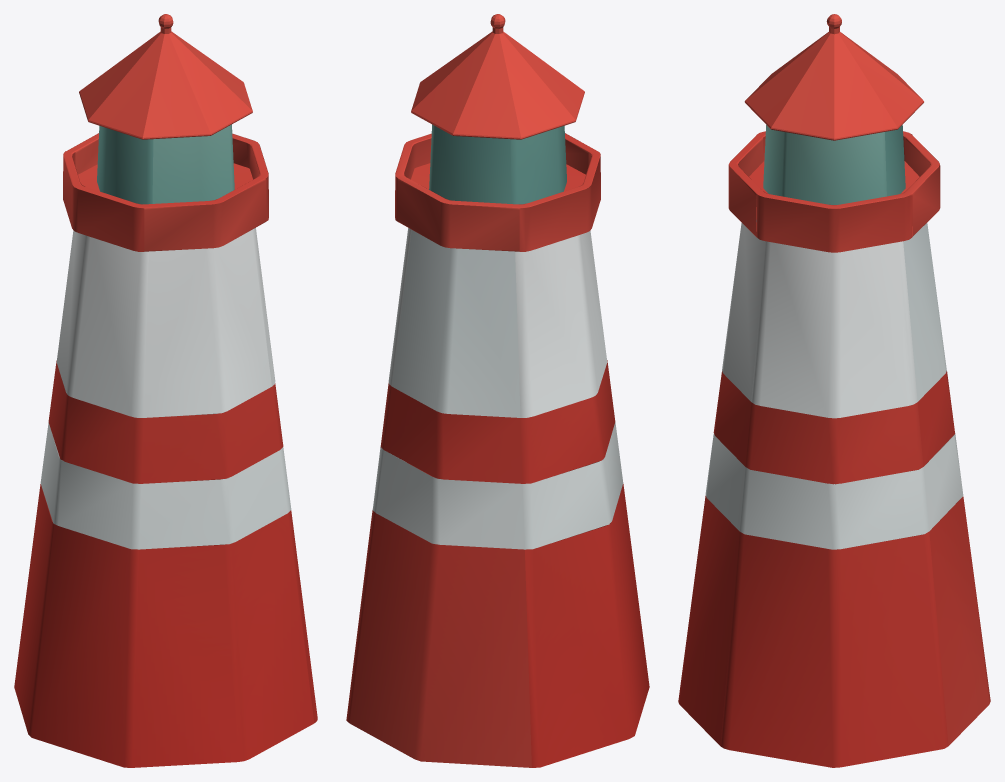
The model's file is lighthouse.glb.
3 views of the same model, side by side, from view 1: azimuth 30°, elevation 25°; view 2: azimuth 150°, elevation 25°; view 3: azimuth 270°, elevation 25° (orthographic).
Visible parts, largest first — view 1: lighthouse; view 2: lighthouse; view 3: lighthouse.
Part boxes in pixels (bbox=[...]): lighthouse: bbox=[14, 14, 317, 767]; lighthouse: bbox=[346, 14, 649, 767]; lighthouse: bbox=[678, 14, 990, 767].
Size of the model in its own units: 0.9937 by 2.41 by 0.994.
Materials: 1 (1 with a texture image).
